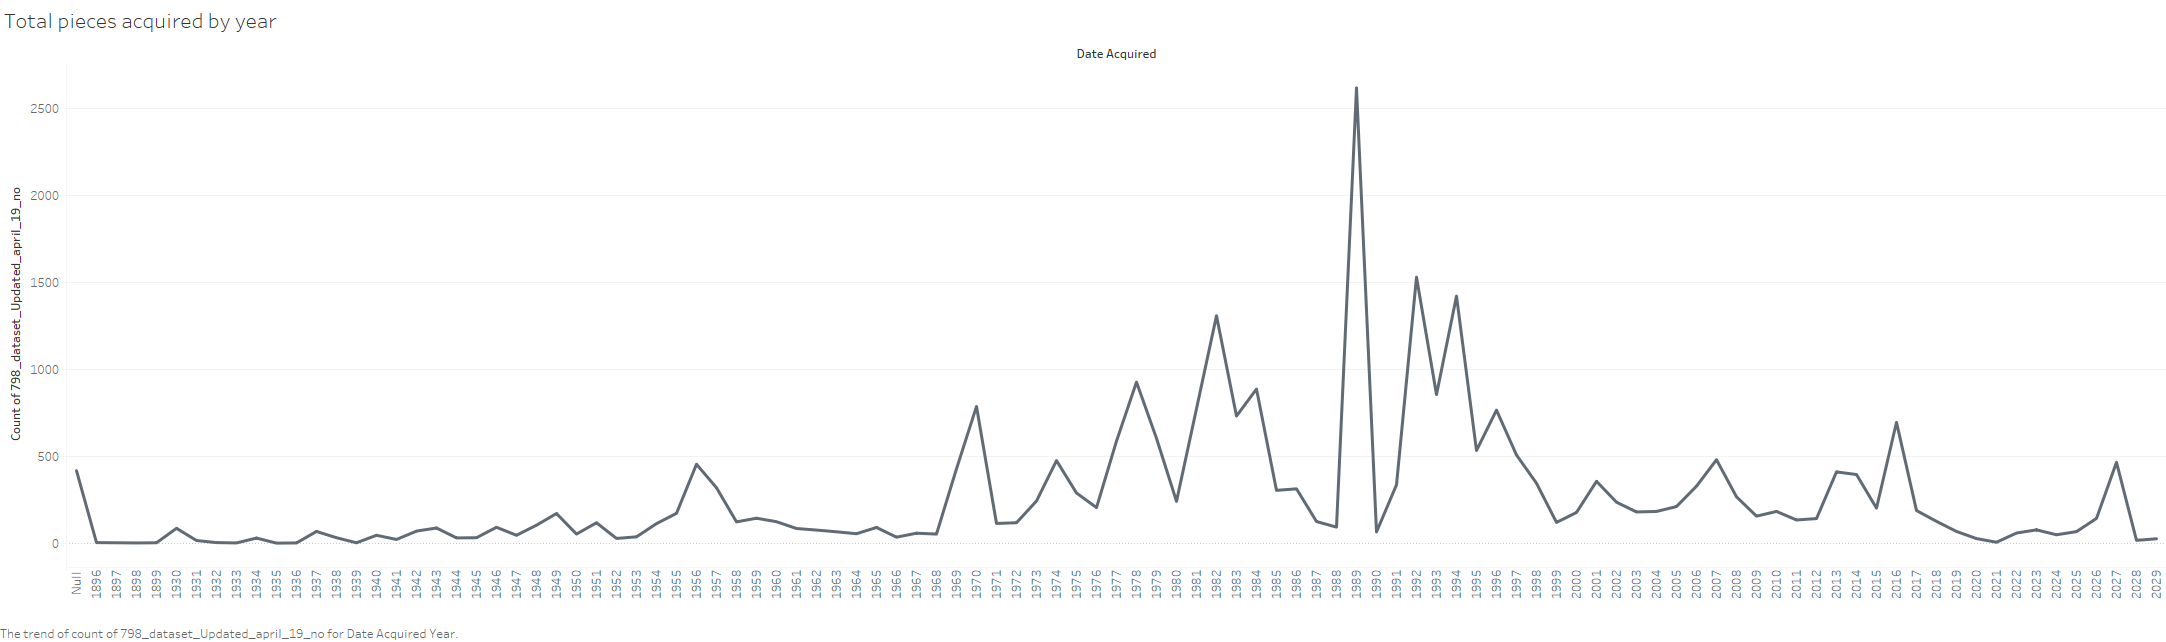

The page's visual inventory and layout, read from the dashboard file:
{"tool":"tableau","page":{"name":"Dashboard 1","canvas":[1000,800],"ordinal":0},"visuals":[{"type":"worksheet","title":"Sheet 2","mark":"Automatic","rows":["798!data!only!not!on!view!rows_52761707DF0A46CA932B8A59ADC1F"],"cols":["date_acquired"],"box":[8,8,984,784]}]}

Visuals, with their boxes on the page's 1000x800 design canvas (x1, y1, x2, y2). These are canvas units, not pixel positions in the 2166x642 screenshot, which may show the page scaled, cropped or inside an application window:
"Sheet 2" worksheet: detection(8, 8, 992, 792)
